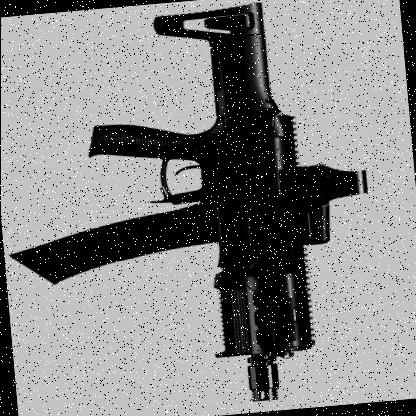rifle: (16, 0, 381, 411)
